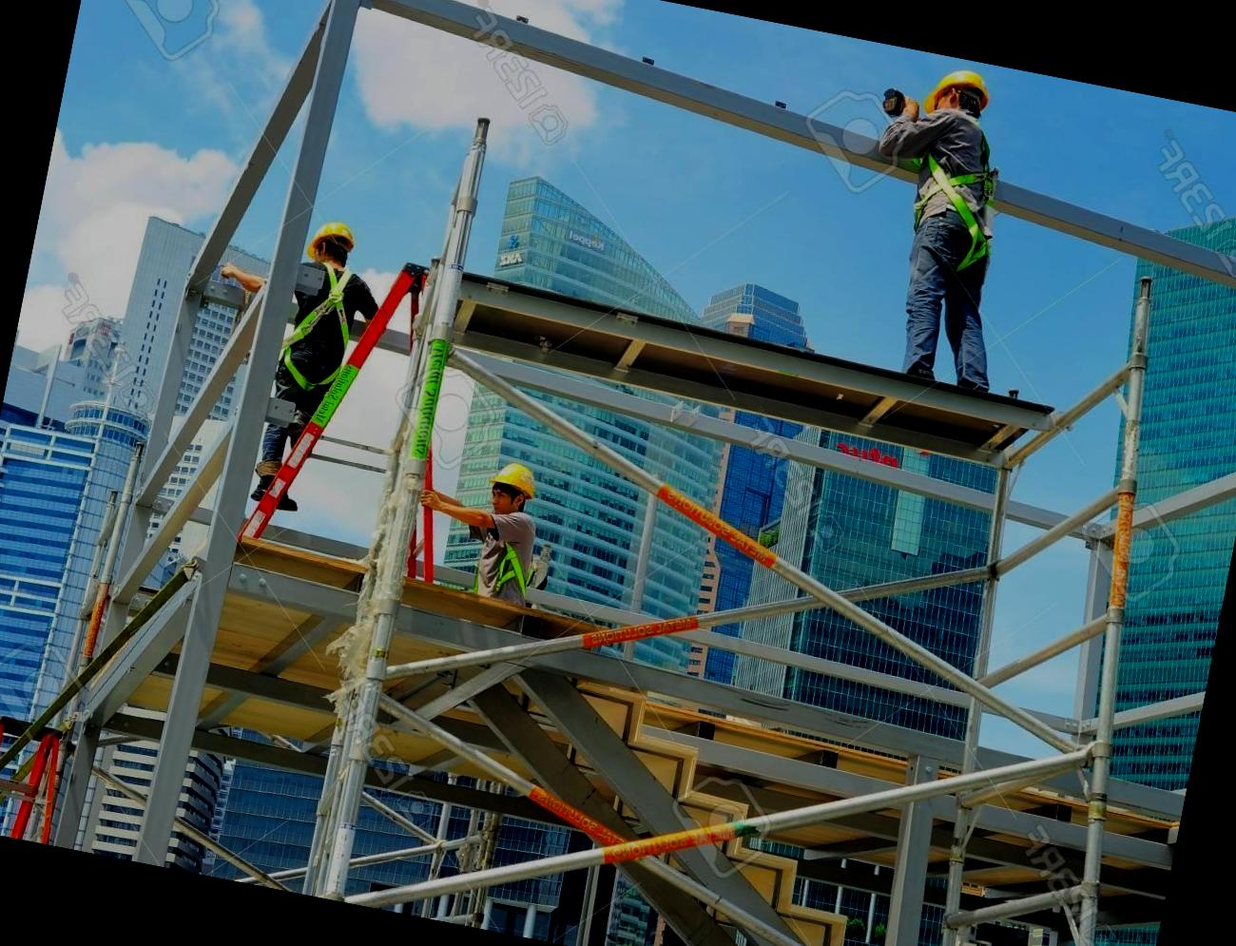person: (832, 62, 1041, 396), (231, 216, 395, 509), (450, 450, 553, 606)
